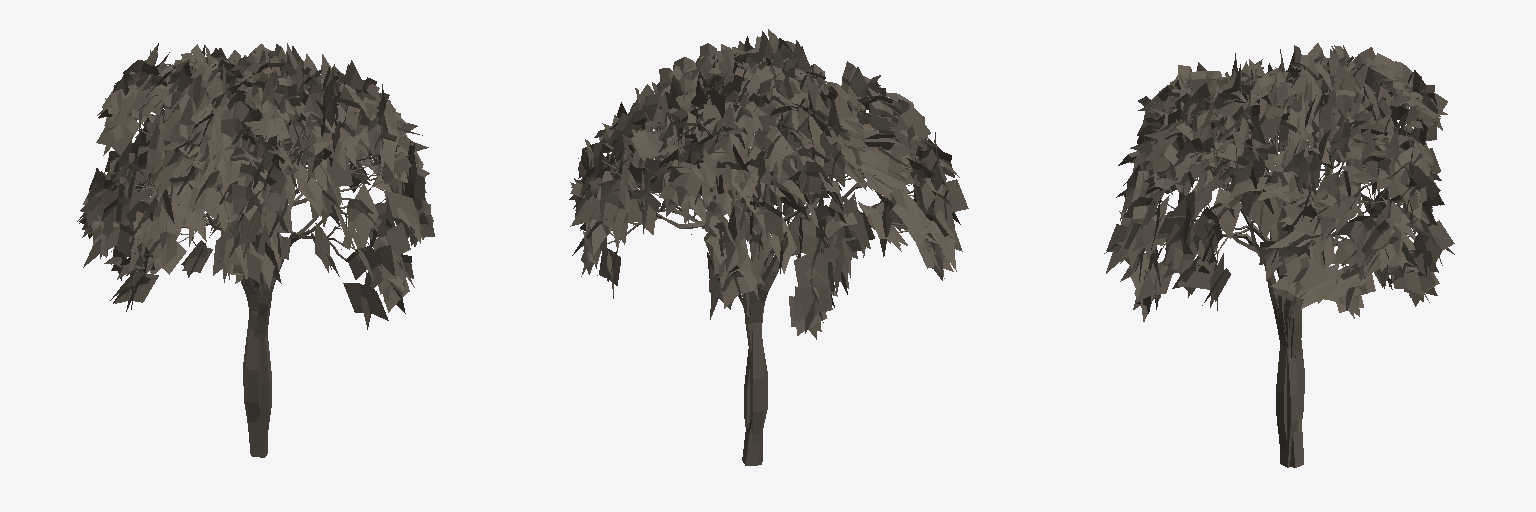
The model's file is tree5.obj.
3 renders of one model, left to right at view 1: azimuth 30°, elevation 25°; view 2: azimuth 150°, elevation 25°; view 3: azimuth 270°, elevation 25°, orthographic.
Parts seen in each view (by area): view 1: Gnarly_t.001; view 2: Gnarly_t.001; view 3: Gnarly_t.001.
Part boxes in pixels (left/top/right/bottom): Gnarly_t.001: left=77, top=43, right=434, bottom=457; Gnarly_t.001: left=569, top=29, right=968, bottom=465; Gnarly_t.001: left=1104, top=43, right=1454, bottom=467.
Bounding box in the file's own units: 5.72 × 6.23 × 4.85.